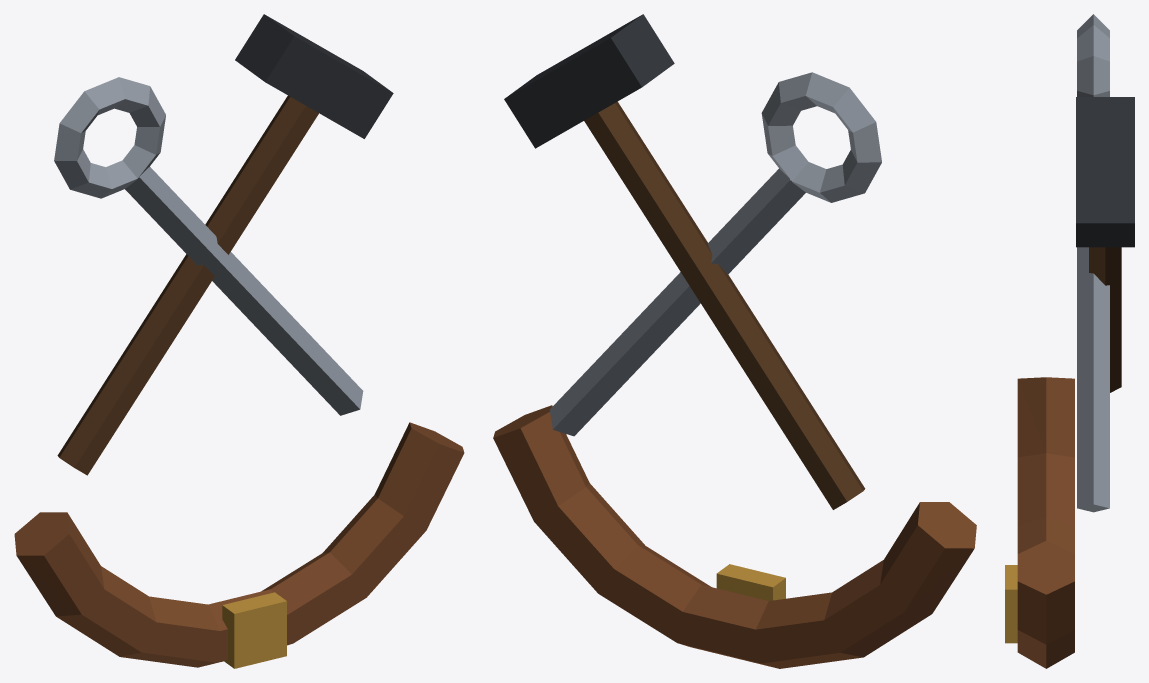
The model's file is GearToolBelt.obj.
3 renders of one model, left to right at view 1: azimuth 30°, elevation 25°; view 2: azimuth 150°, elevation 25°; view 3: azimuth 270°, elevation 25°, orthographic. The views are drawn at different scales.
Visible parts, largest first — view 1: GearToolBelt; view 2: GearToolBelt; view 3: GearToolBelt.
Part boxes in pixels (box(x1,y1,x2,y2)): GearToolBelt: box(14, 14, 464, 668); GearToolBelt: box(493, 14, 976, 668); GearToolBelt: box(1005, 14, 1134, 668).
Size of the model in its own units: 0.4244 by 0.5392 by 0.11.
